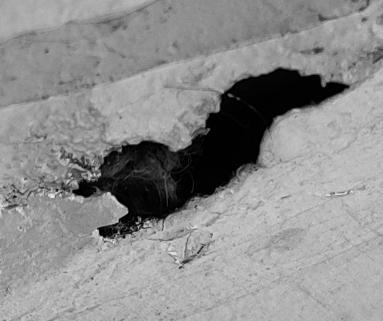crack: (1, 1, 383, 321)
